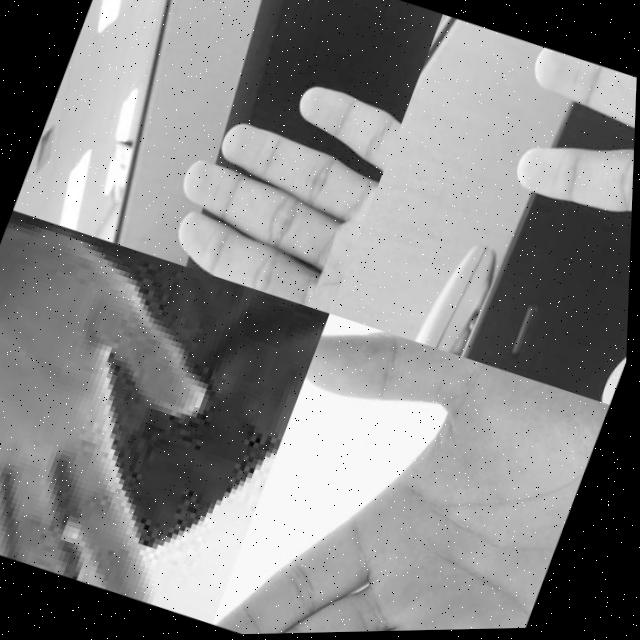hand: (214, 309, 615, 636), (0, 212, 270, 607), (429, 47, 638, 410), (147, 48, 408, 318)
